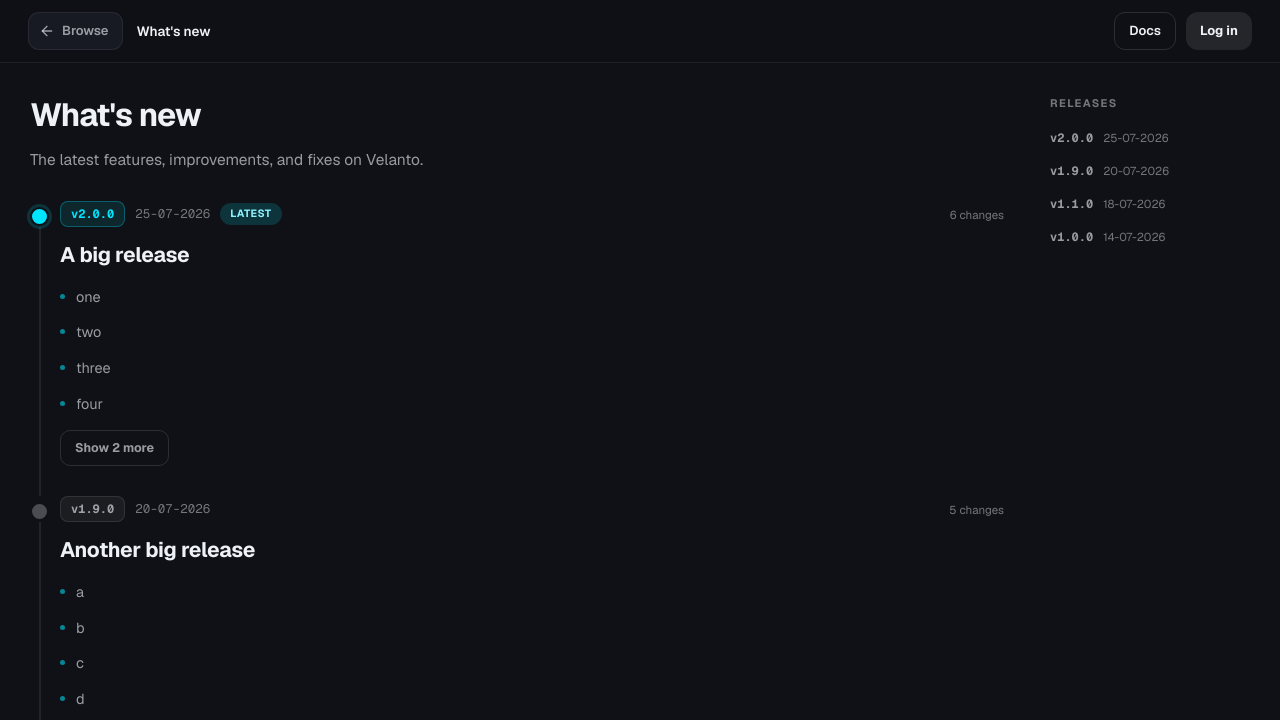
UpdatesScreen › truncates an entry's bullets to PREVIEW_BULLETS (4) with a toggle, and expanding one entry doesn't affect another
The image size is (1280, 720).
Expected: the text "one" is shown, [76,285,101,309]
Expected: the text "four" is shown, [76,392,103,416]
Click the button "Show 2 more". click: [114, 448]
box: [60,430,169,466]
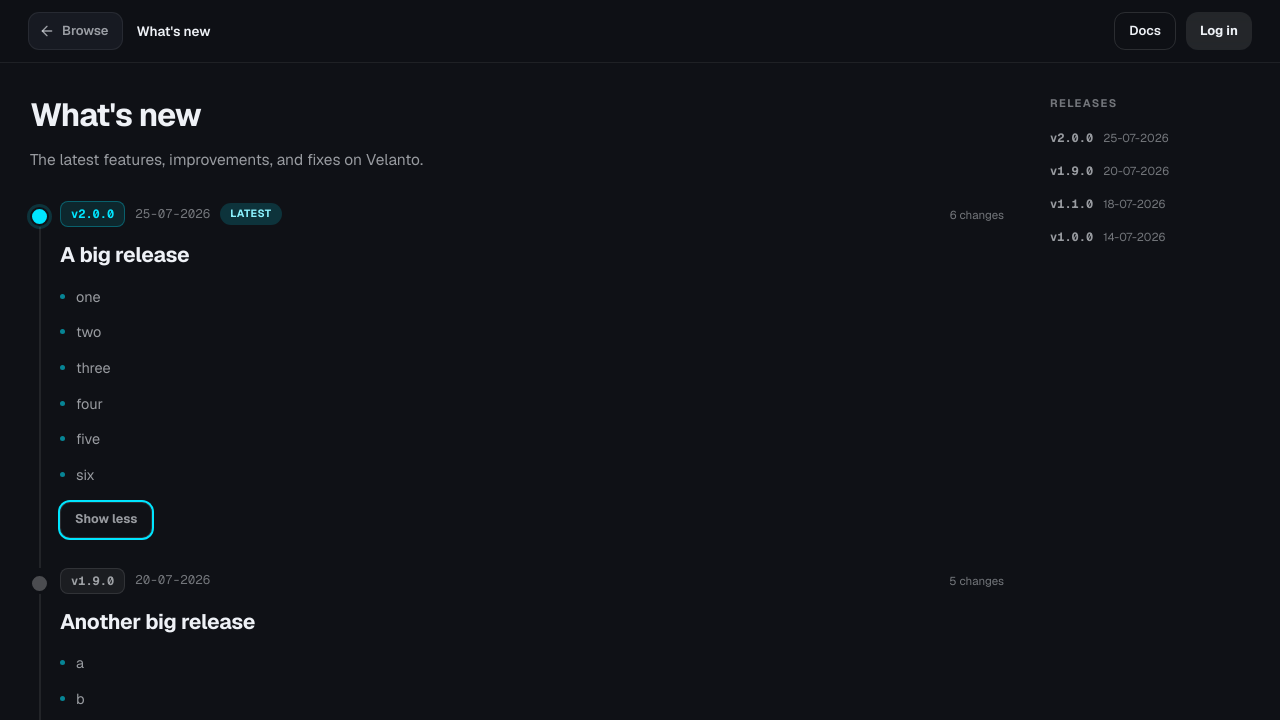
Expected: the text "five" is shown, [76,427,100,452]
Expected: the text "six" is shown, [76,463,95,488]
Expected: the button "Show less" is expanded, [60,502,152,538]
